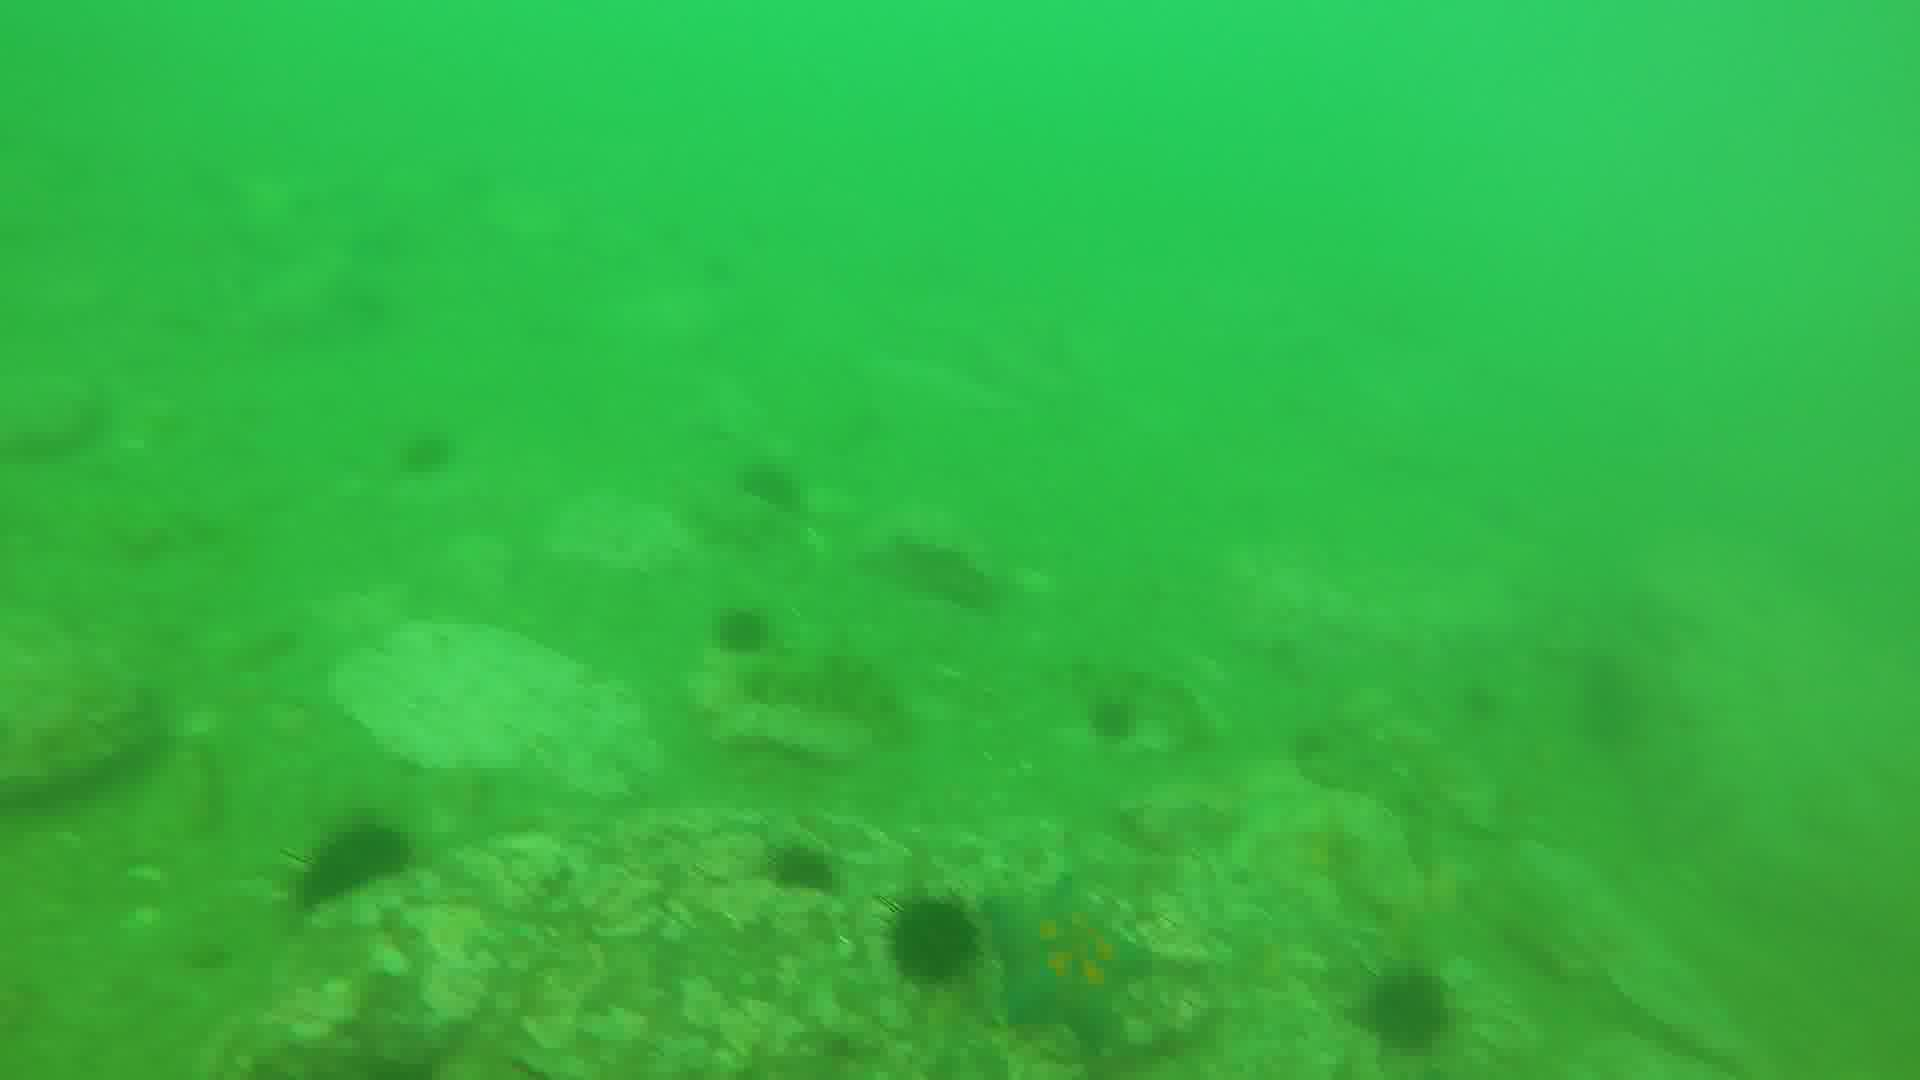echinus: (295, 814, 410, 916), (1346, 961, 1447, 1063), (884, 887, 973, 989), (761, 835, 843, 920), (719, 597, 783, 662)
starfish: (992, 872, 1156, 1069)
